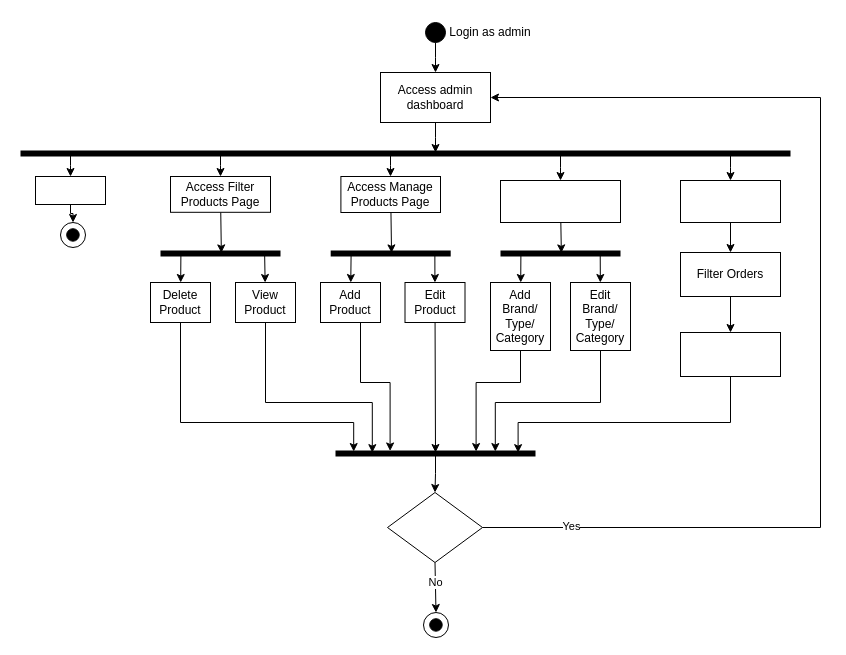
This 846x655 diagram has some shape labels left out. Here are the shapes that lost their labels. From the top down, the box of each, then its label:
(34, 176, 106, 204): Logout
(500, 180, 620, 222): Access Manage Brand/Type/Category Pages
(680, 180, 780, 222): Access Manage Orders Page
(680, 332, 780, 376): Update Order State
(386, 492, 482, 562): Continue activity ?
